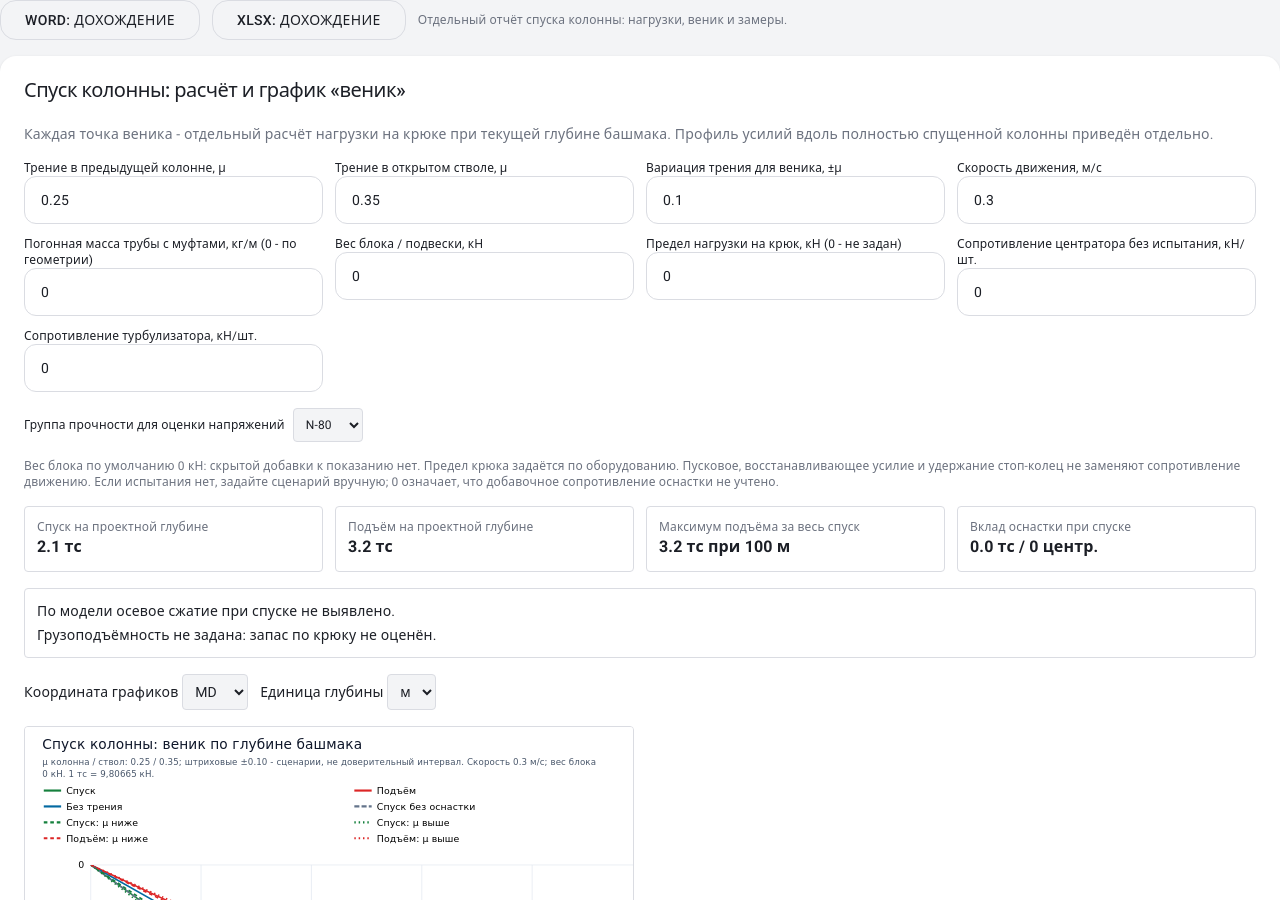
Test: shows an actual broomstick and permits a saved running force scenario and field measurements
Later steps or results of the test are not shown.
Select "TVD" in the dropdown named "Координата графиков оснастки" at (215, 692), box x1=182 y1=674 x2=248 y2=710
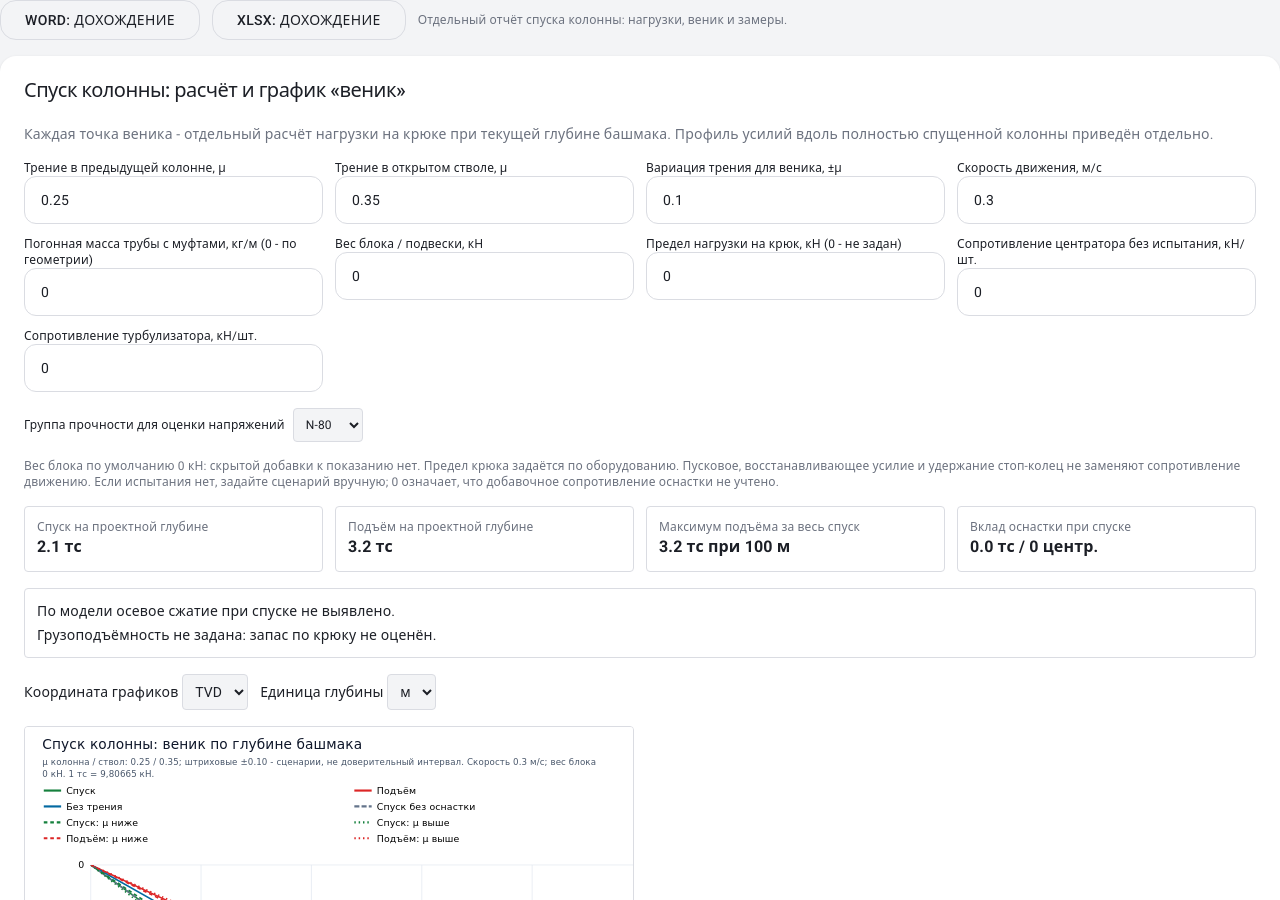
Select "ft" in the dropdown named "Единица глубины графиков оснастки" at (412, 692), box x1=387 y1=674 x2=436 y2=710
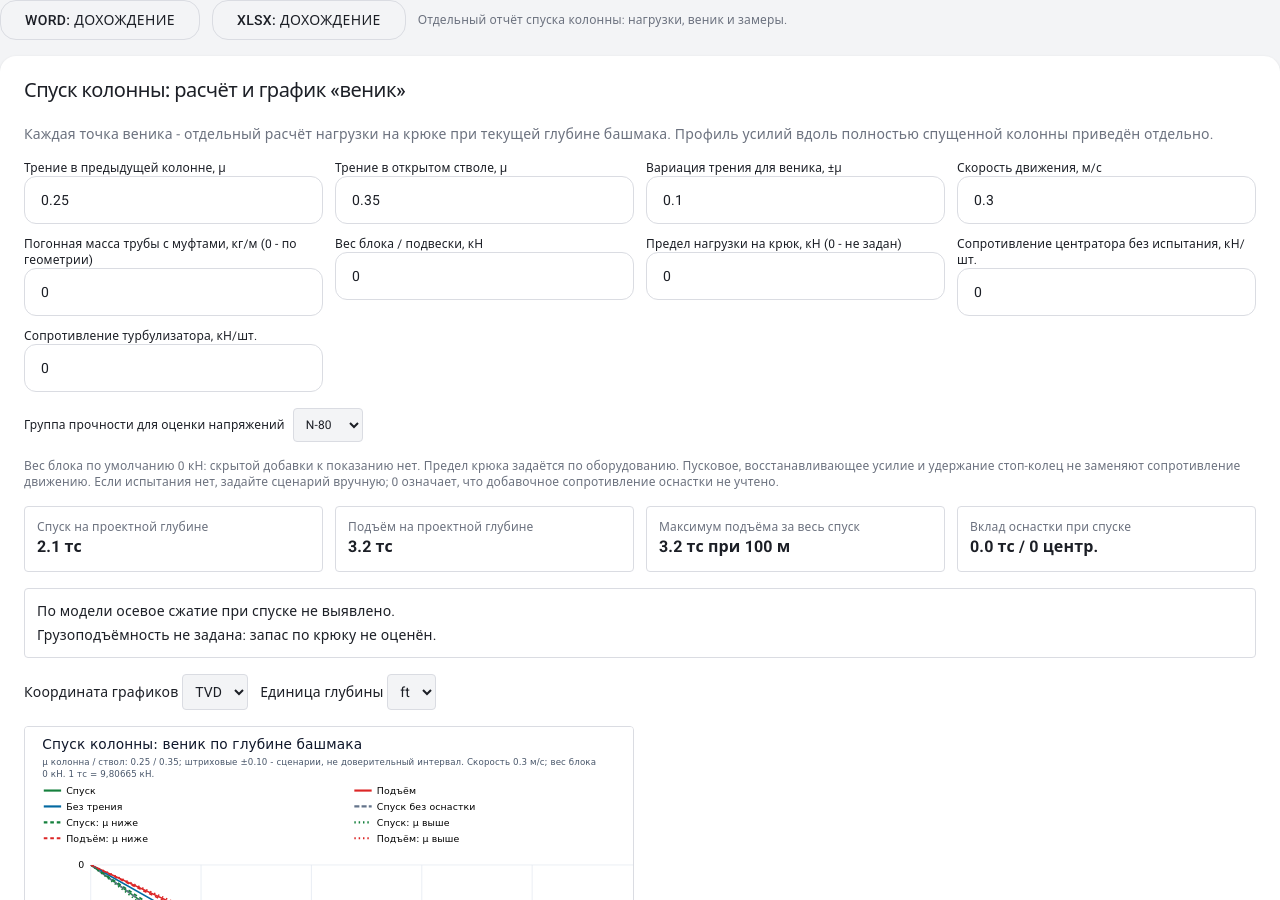
Click the button "XLSX: дохождение" at (309, 20), box x1=212 y1=0 x2=406 y2=40
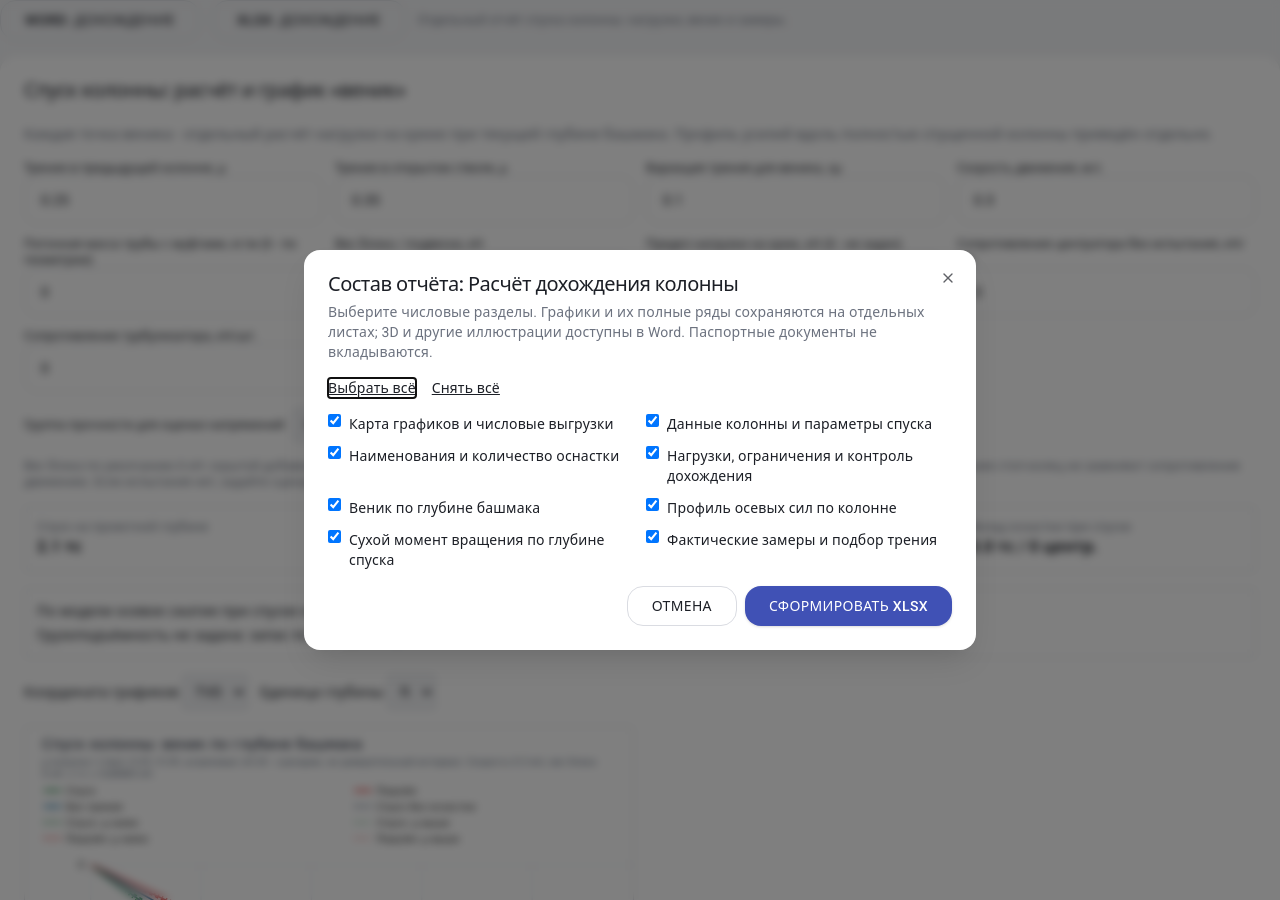
Expected: the button "Сформировать XLSX" is shown, x1=745 y1=586 x2=952 y2=626
